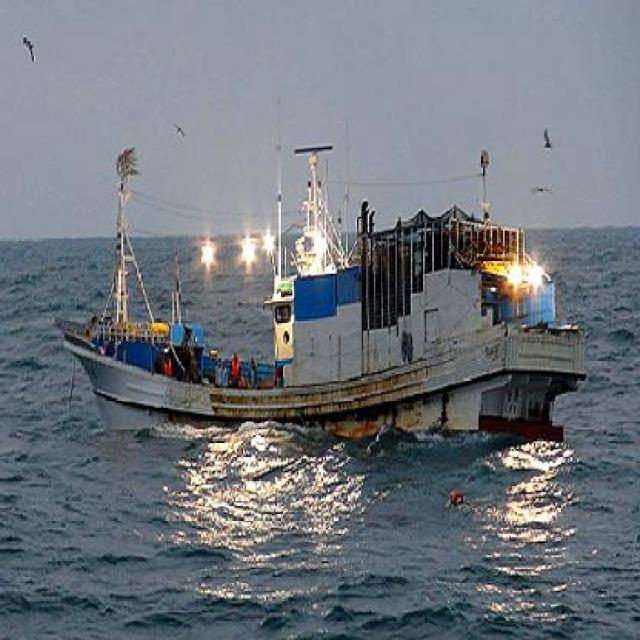fish-b: (46, 123, 598, 470)
